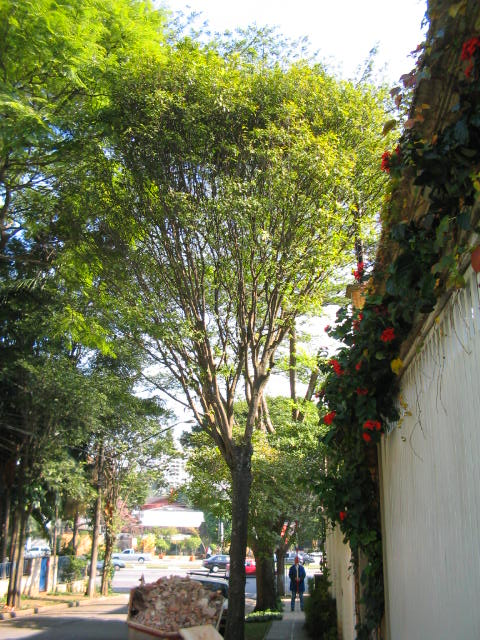crown: (58, 41, 386, 414)
stem: (212, 462, 257, 639)
tree: (57, 38, 390, 640)
